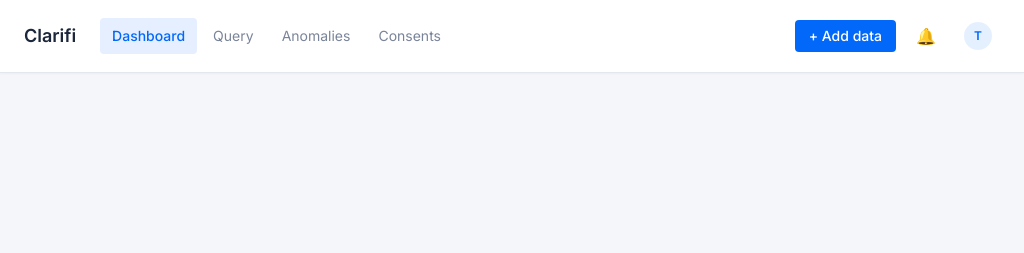
Test: AppShell › exposes the email and a sign-out control via the account menu
Expected: the text "test@example.com" is not shown
Click the button named "account menu" at (978, 36), box [956,16,1000,56]
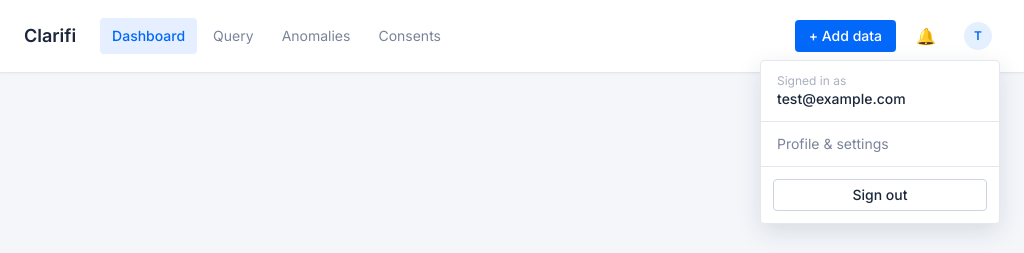
Result: the text "test@example.com" is shown at [777,90,906,107]
Result: the button "Sign out" is shown at [773,179,987,211]
